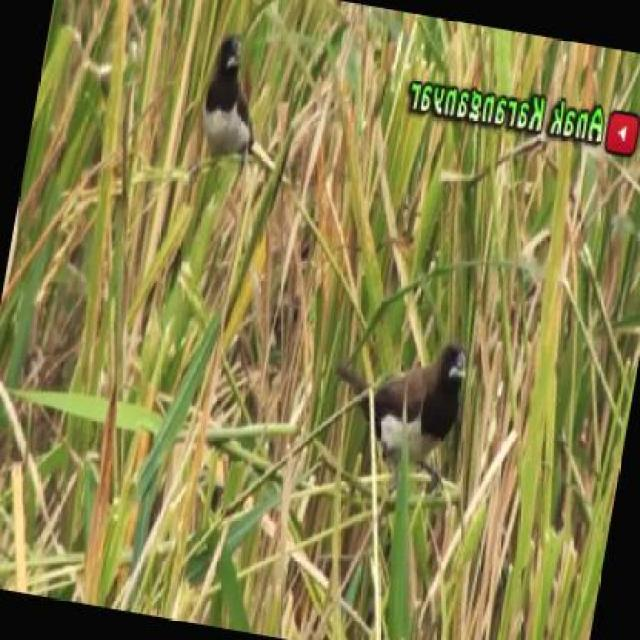Bird: (323, 342, 475, 510), (192, 22, 273, 191)
